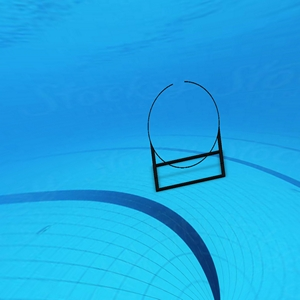circle: (146, 76, 228, 194)
